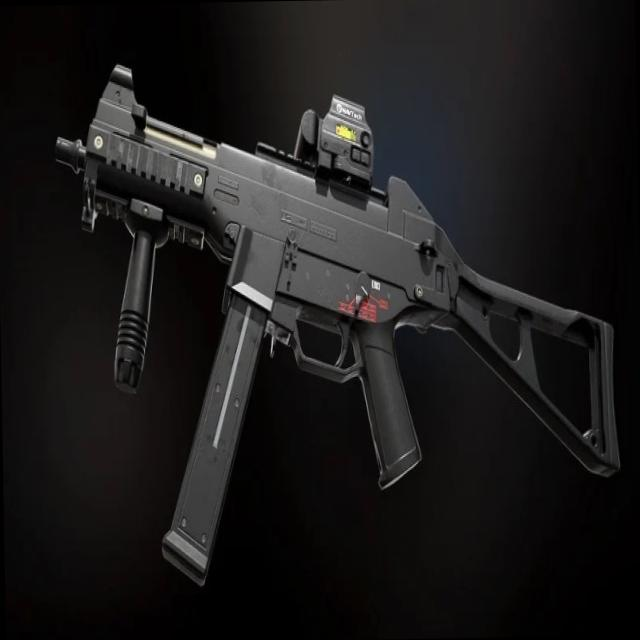Gun: (44, 59, 620, 592)
